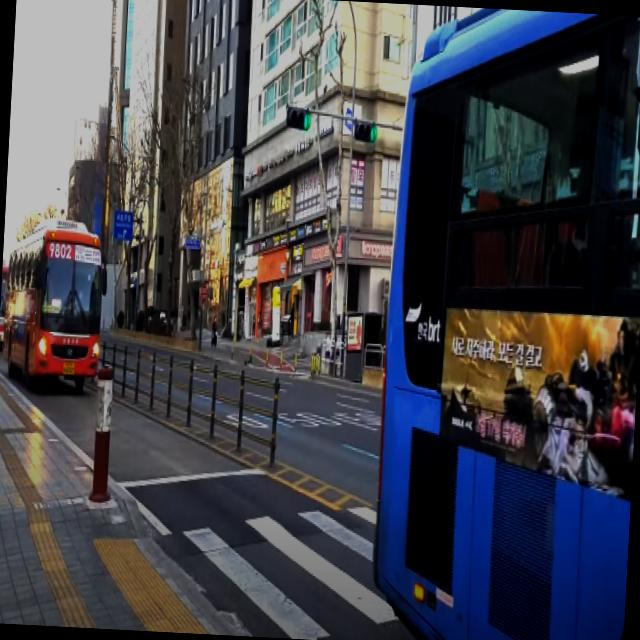bus-number: (49, 241, 73, 260)
